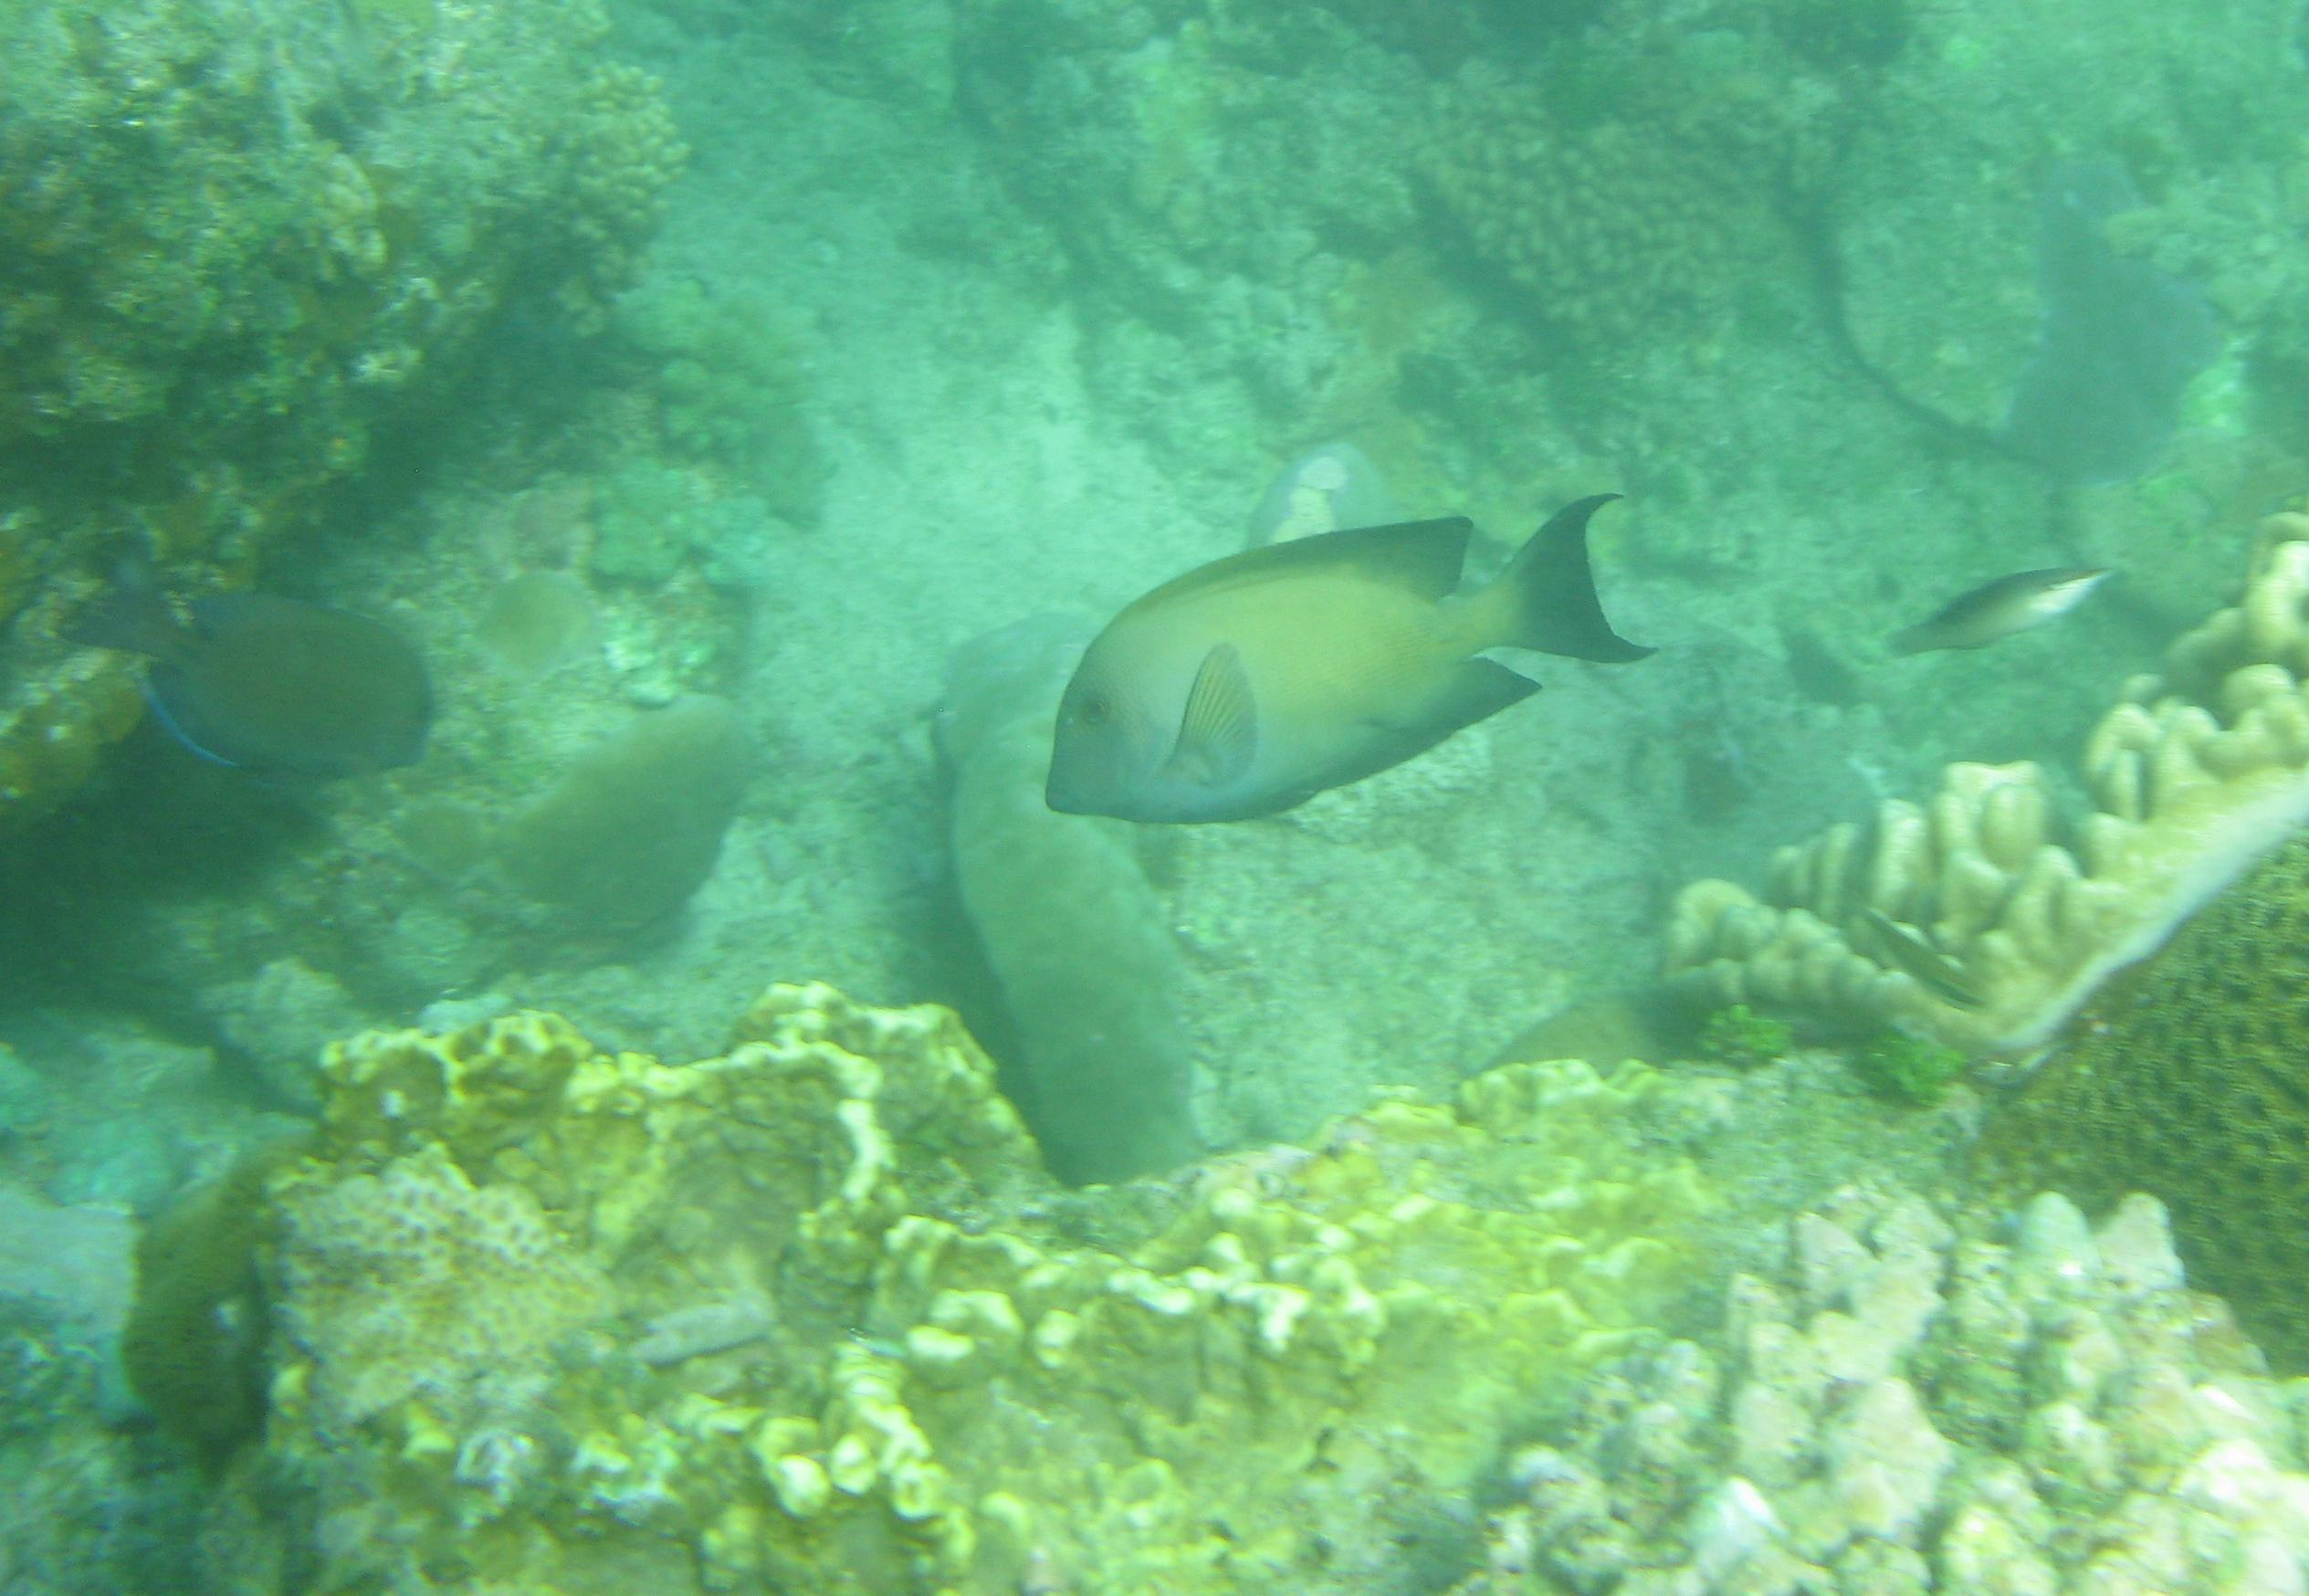Fish: (954, 454, 1679, 879)
